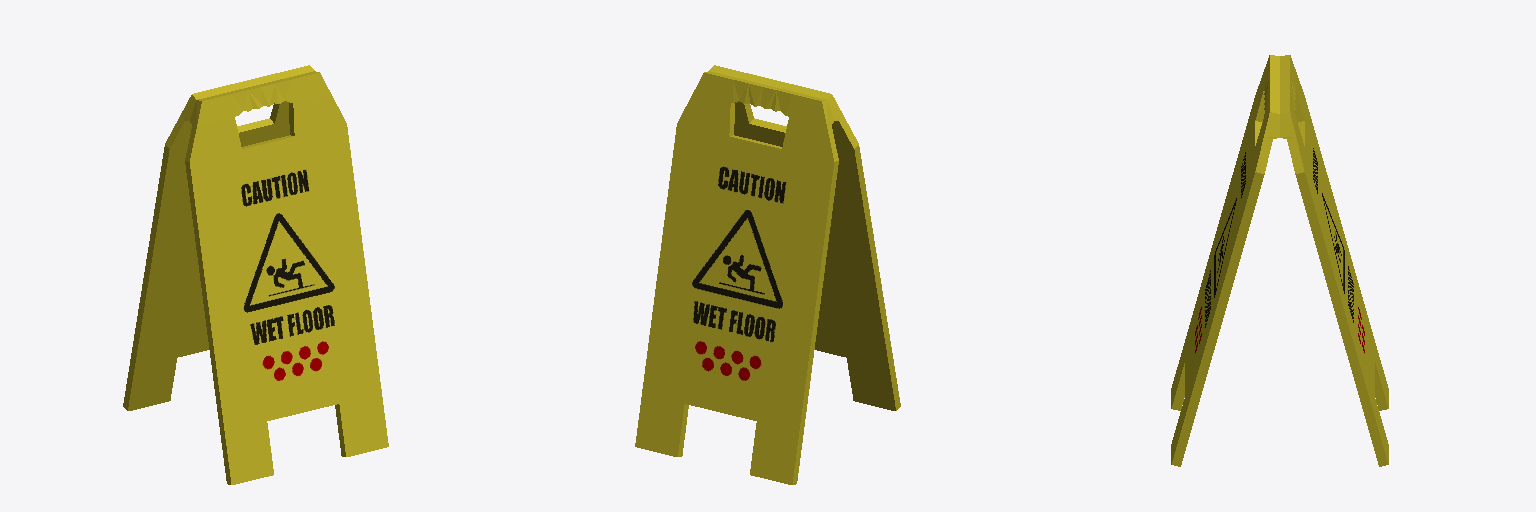
The picture shows the model from 3 angles: view 1: azimuth 30°, elevation 25°; view 2: azimuth 150°, elevation 25°; view 3: azimuth 270°, elevation 25°; orthographic projection.
Visible parts, largest first — view 1: WetFloorSign_01_Mesh; view 2: WetFloorSign_01_Mesh; view 3: WetFloorSign_01_Mesh.
Part boxes in pixels (x1,y1,x2,y2): WetFloorSign_01_Mesh: (123,65,388,484); WetFloorSign_01_Mesh: (635,65,900,484); WetFloorSign_01_Mesh: (1171,55,1388,466).
Bounding box in the file's own units: 0.3001 × 0.6295 × 0.3585.
Materials: 1 (1 with a texture image).